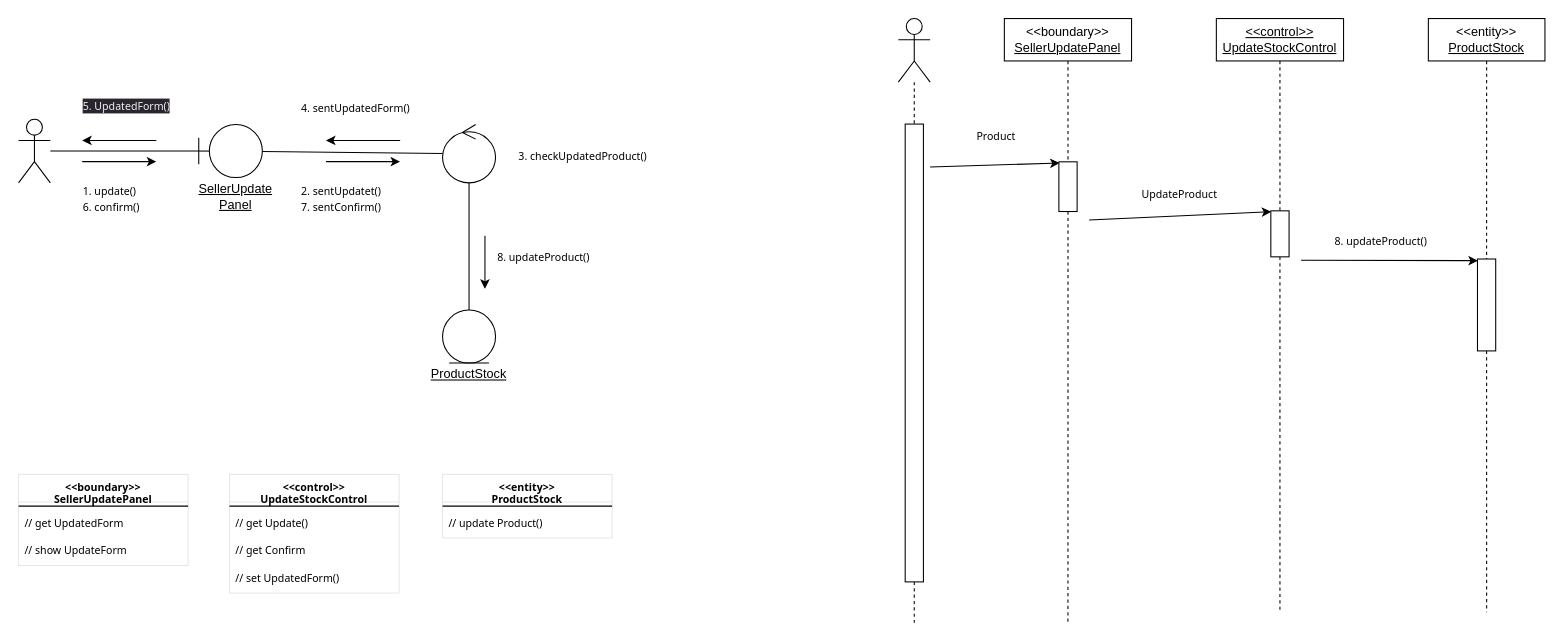
Image size: 1563x642. Some labels were removed from this diagram. Each missing label, with the centre of its shape:
"Actor" belongs at [913,49].
"Seller" belongs at [33,150].
"UpdateStock Control" belongs at [468,153].
